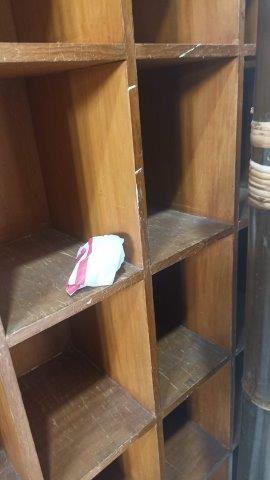plastik: (62, 235, 129, 296)
